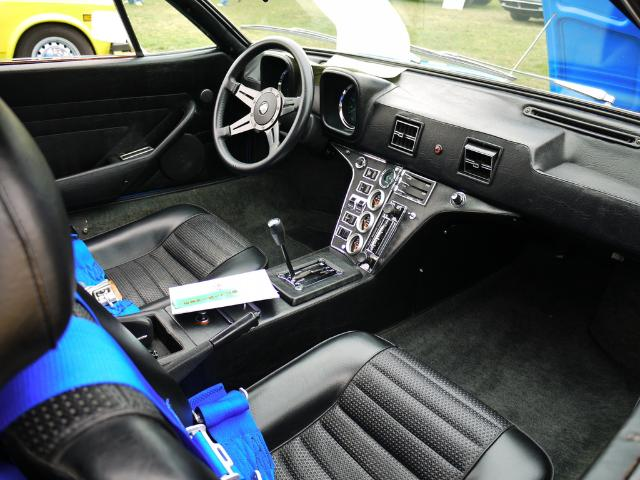Seatbelt: (170, 372, 274, 480)
